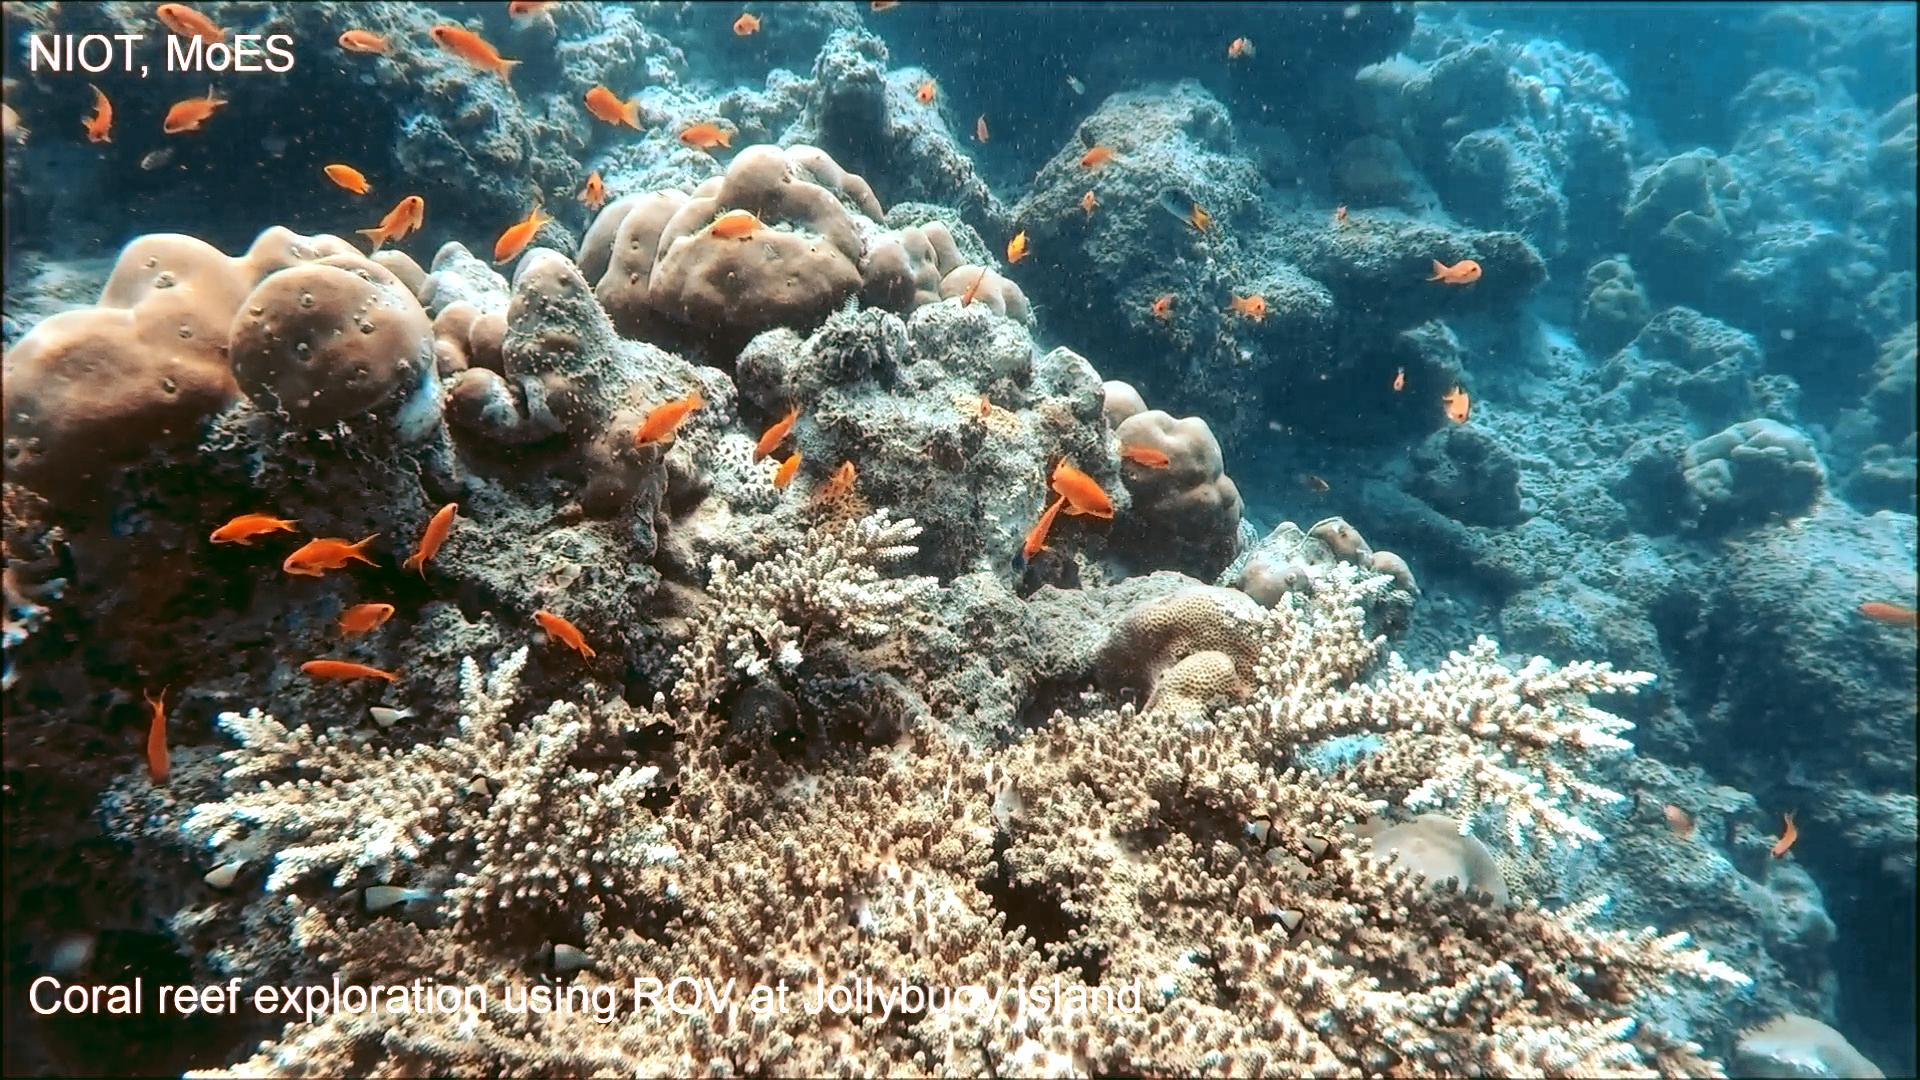Porites-Porites pukoensis: (0, 219, 438, 508), (568, 138, 951, 348)
